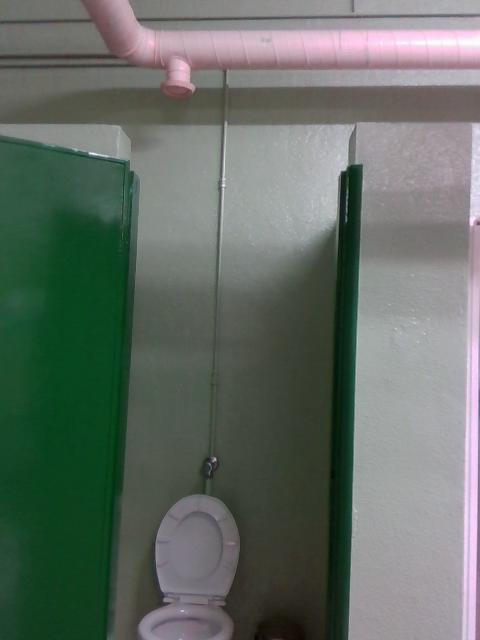open_door: (102, 121, 355, 639)
